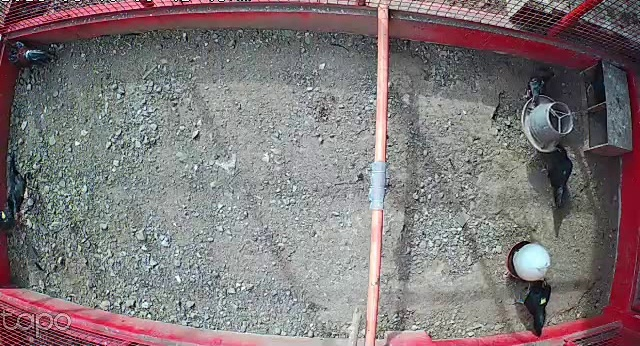Chicken: (506, 273, 559, 341), (538, 142, 579, 213), (7, 155, 37, 220)
Rooster: (1, 38, 56, 71)
